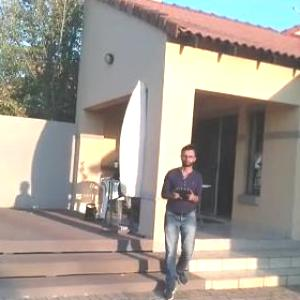follow: (154, 139, 204, 298)
